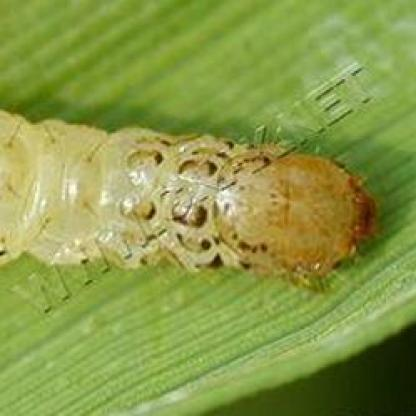leaf-folder: (0, 93, 376, 297)
